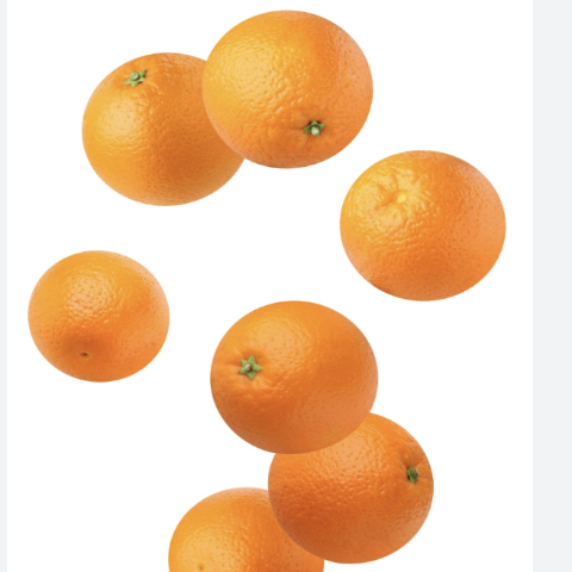orange: (331, 147, 519, 324), (193, 0, 383, 175), (252, 405, 460, 564), (70, 46, 258, 209), (199, 298, 383, 460), (25, 239, 170, 389), (157, 471, 327, 572)
